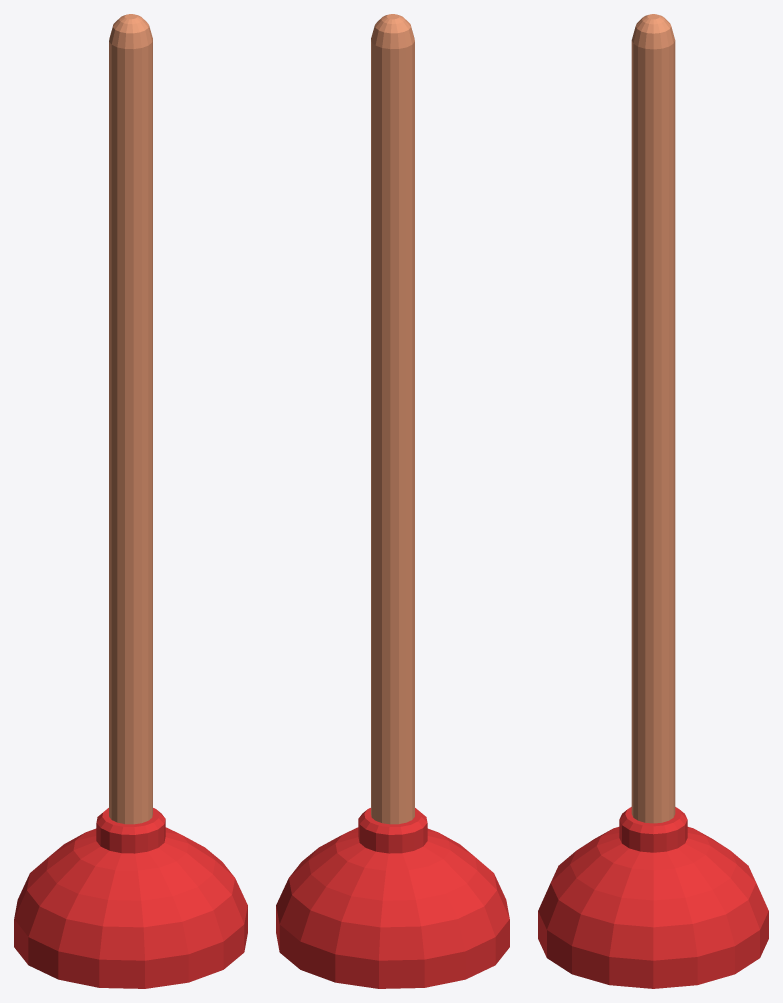
File: DestapaInodoros.fbx
3 views of the same model, side by side, from view 1: azimuth 30°, elevation 25°; view 2: azimuth 150°, elevation 25°; view 3: azimuth 270°, elevation 25° (orthographic).
Visible parts, largest first — view 1: Plunger; view 2: Plunger; view 3: Plunger.
Boxes of the visible parts, x1,y1,x2,y2 form: Plunger: (14,14,247,988); Plunger: (276,14,509,988); Plunger: (538,14,768,988).
Bounding box in the file's own units: 163 × 703 × 159.
